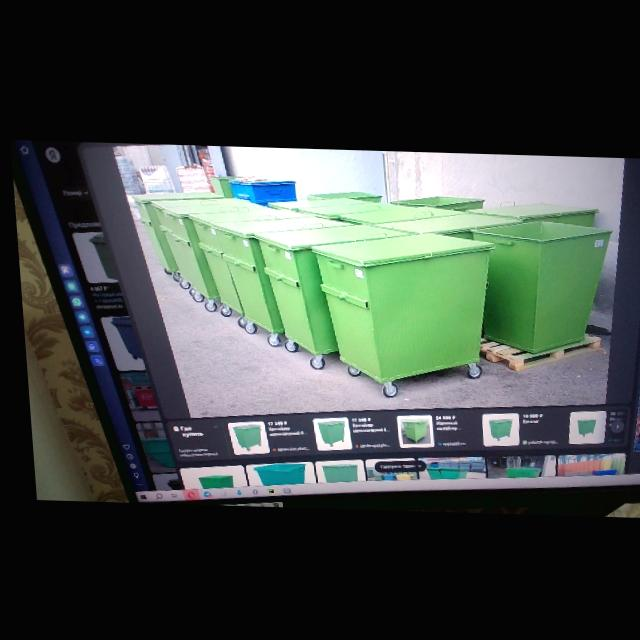Trash_Can_Closed: (306, 227, 498, 384), (249, 219, 414, 354), (209, 212, 358, 333), (186, 204, 313, 313), (128, 189, 226, 270)
Trash_Can_Empty: (466, 215, 617, 351)
